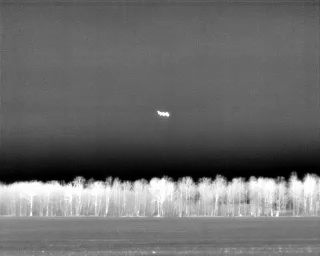DRONE: (153, 105, 174, 122)
